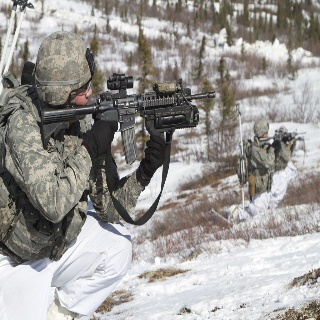rifle: (38, 73, 217, 150)
